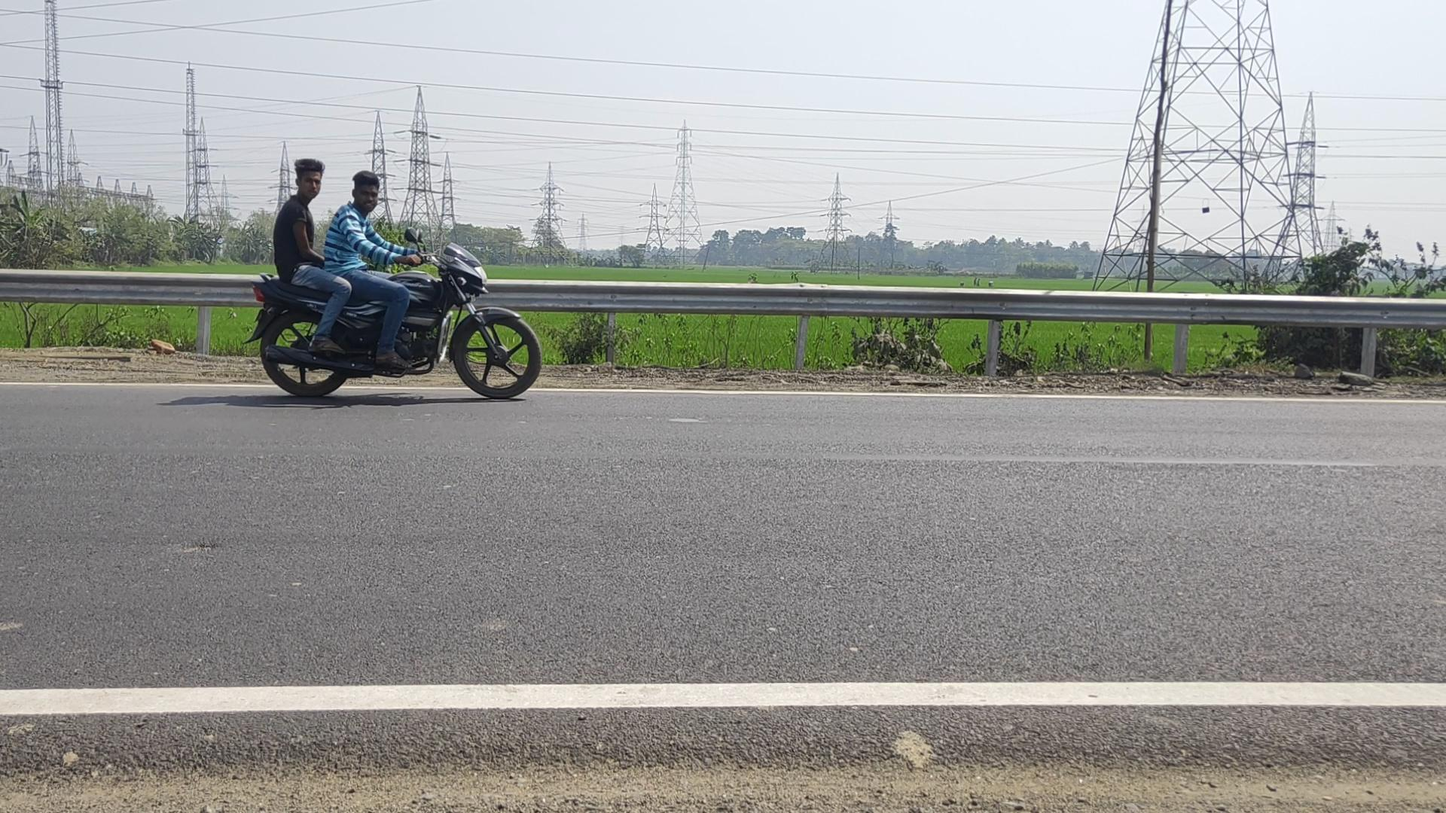bike: (244, 159, 541, 399)
